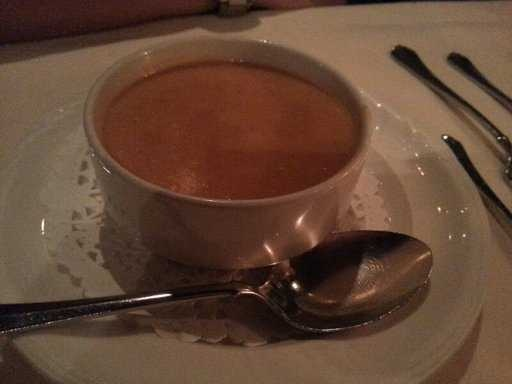soup: (69, 25, 358, 216)
